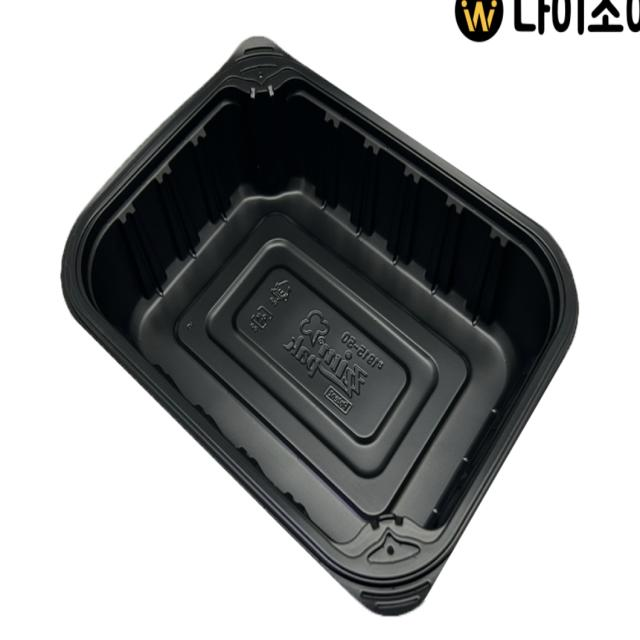recyclable: (52, 34, 586, 625)
